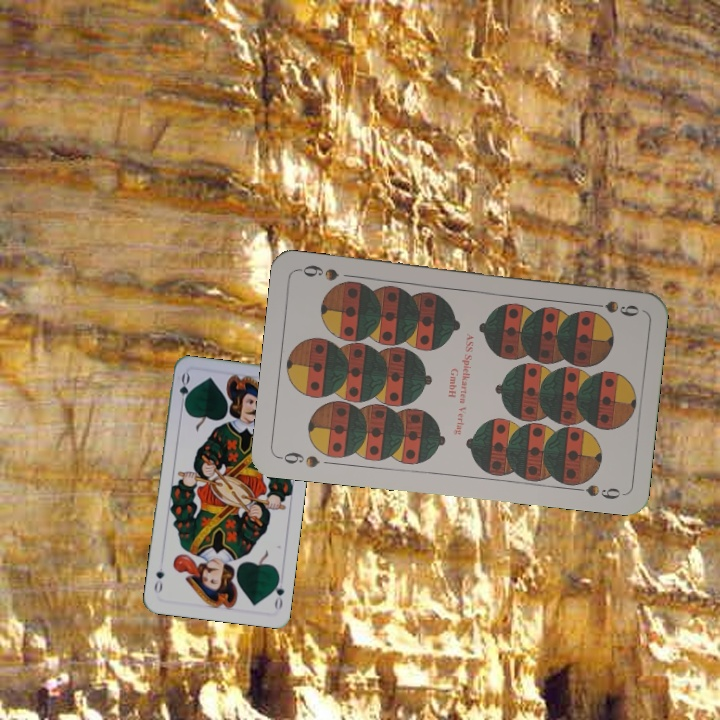GO: (268, 571, 287, 612), (175, 370, 192, 411)
S9: (583, 296, 642, 319), (275, 448, 322, 470)
